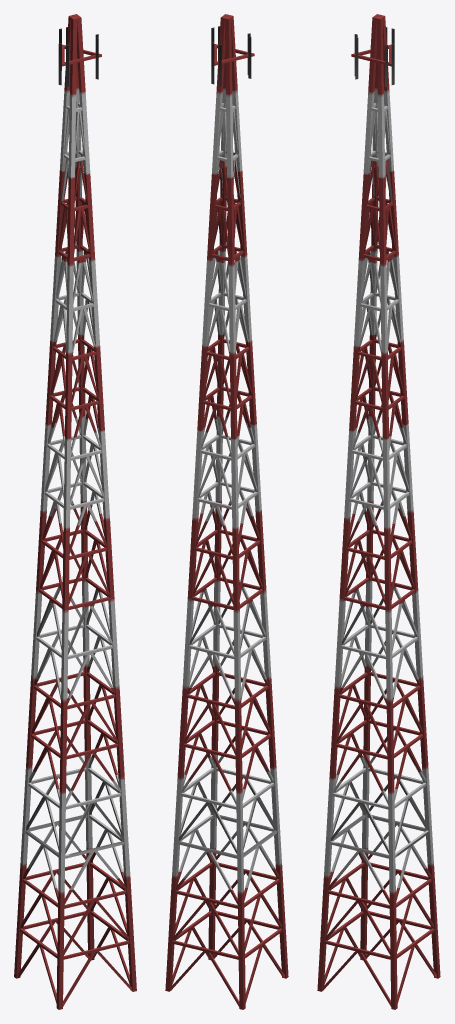
The model's file is Tower1_str.fbx.
3 renders of one model, left to right at view 1: azimuth 30°, elevation 25°; view 2: azimuth 150°, elevation 25°; view 3: azimuth 330°, elevation 25°, orthographic.
Visible parts, largest first — view 1: Tower2_str_1; view 2: Tower2_str_1; view 3: Tower2_str_1.
Boxes of the visible parts, x1,y1,x2,y2 form: Tower2_str_1: [14, 14, 136, 1009]; Tower2_str_1: [165, 14, 288, 1009]; Tower2_str_1: [317, 14, 440, 1009].
Bounding box in the file's own units: 1.69 × 19.95 × 1.69.
